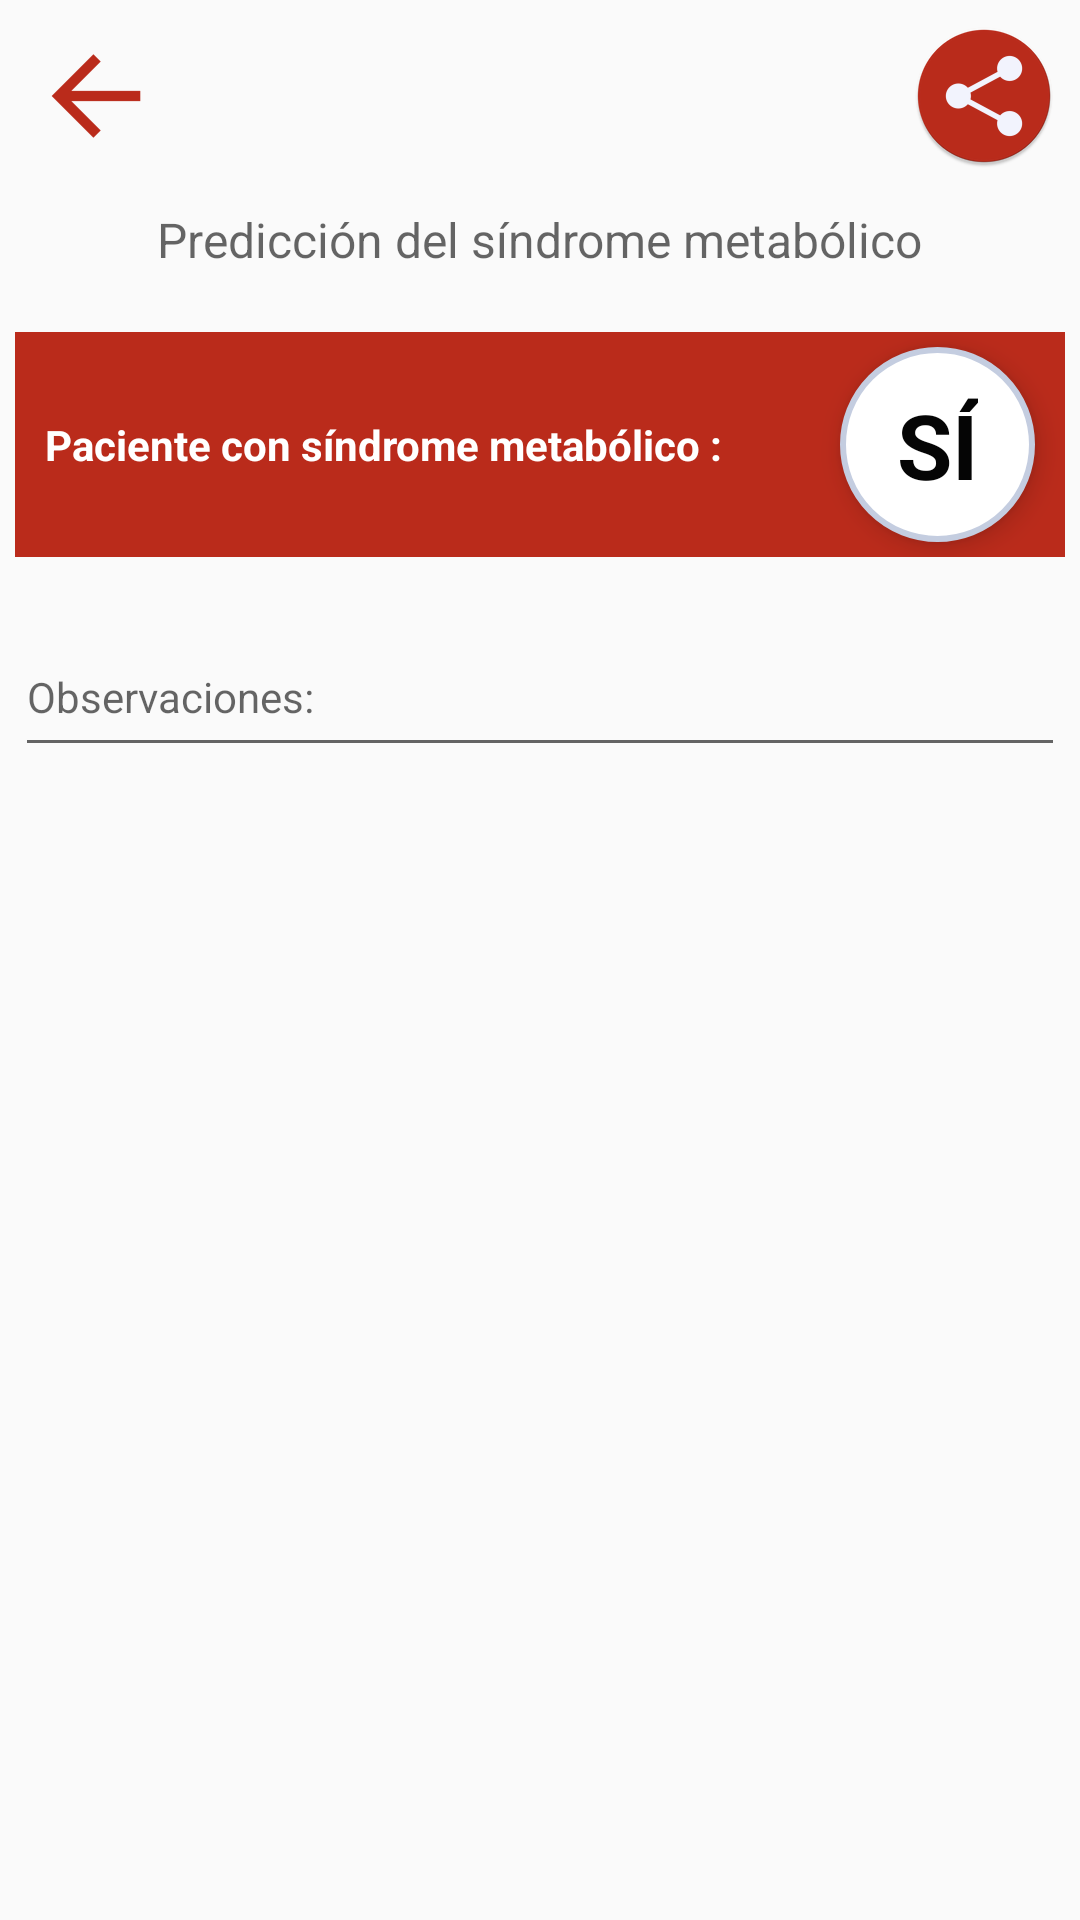

Icons on this 1080x1920 Android screen, each with its box as (x1, y1, x2, y2):
previous: (52, 54, 141, 138)
share: (917, 29, 1051, 165)
